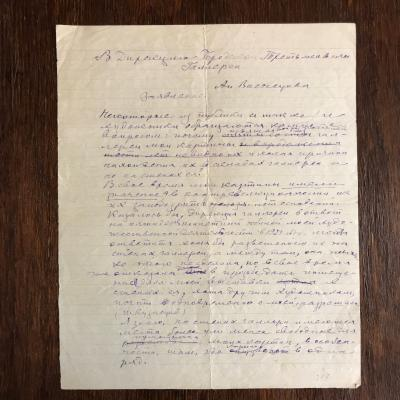document: (55, 23, 362, 391)
